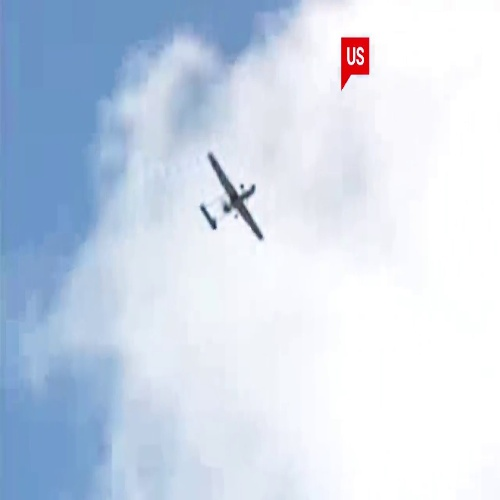uav: (199, 147, 267, 244)
